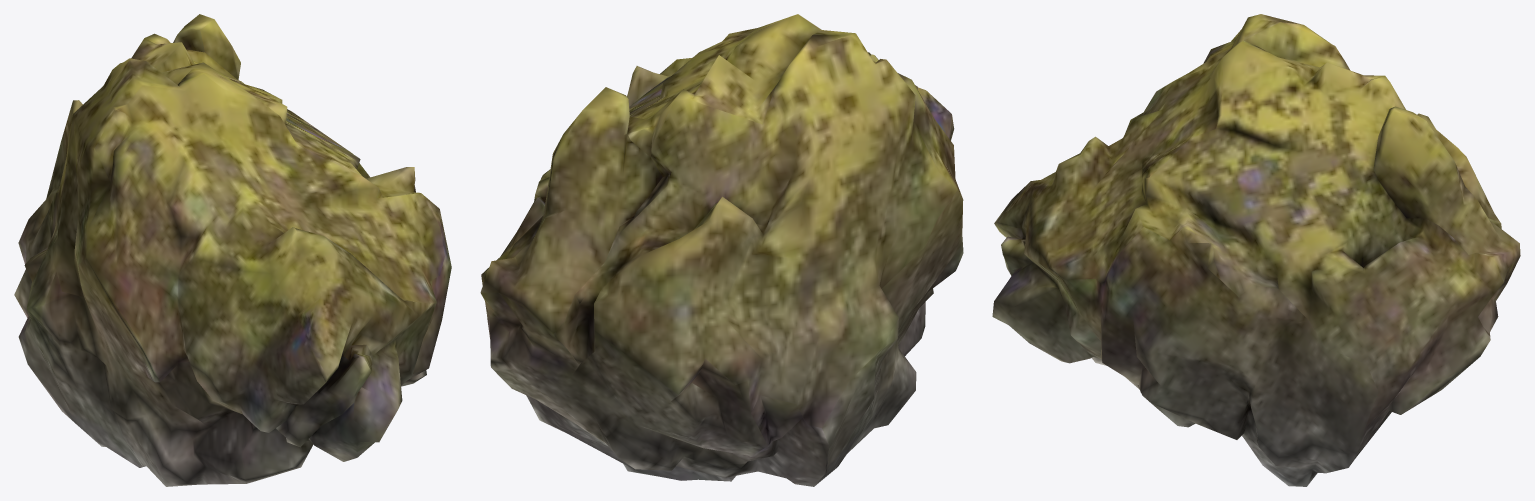
The model's file is SM_RockSulfur_c62784.glb.
The picture shows the model from 3 angles, left to right: view 1: azimuth 30°, elevation 25°; view 2: azimuth 150°, elevation 25°; view 3: azimuth 270°, elevation 25°; orthographic projection. The views are drawn at different scales.
Bounding box in the file's own units: 1.63 × 1.97 × 2.36.
Materials: 1 (1 with a texture image).
